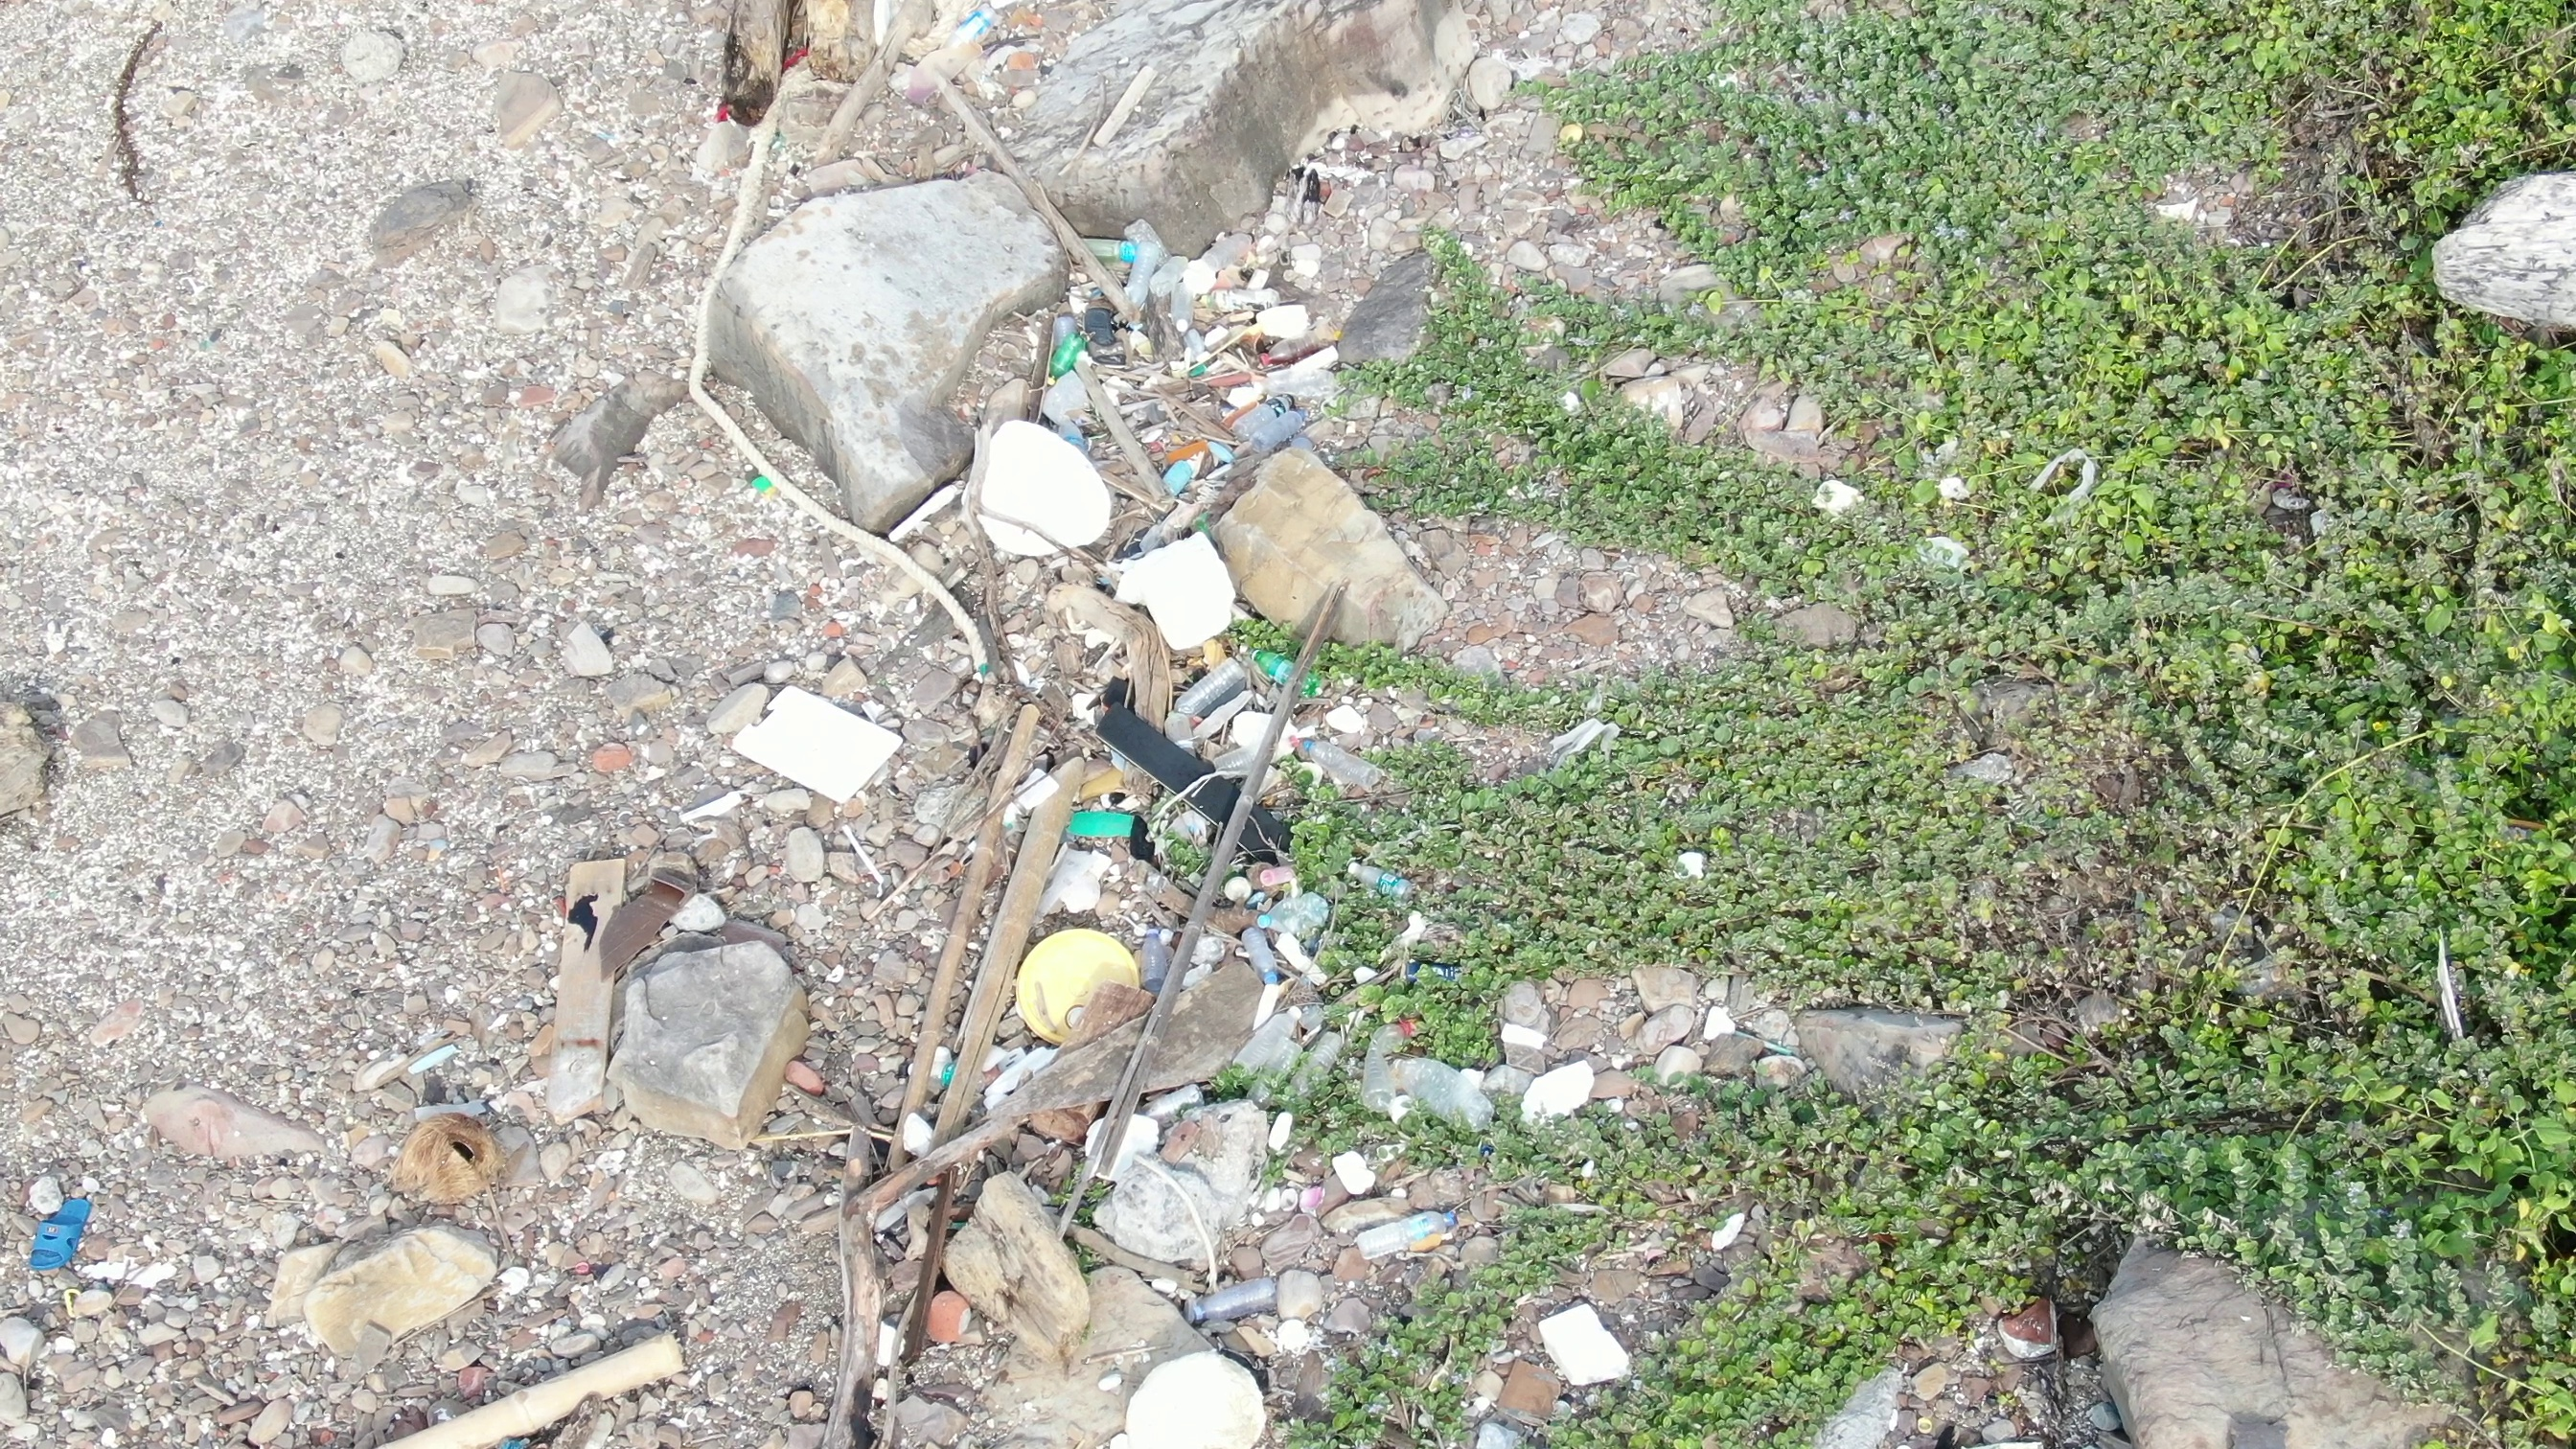bottle: (1350, 1203, 1468, 1267), (1249, 639, 1338, 697), (1122, 195, 1180, 281), (1249, 885, 1332, 941), (1339, 860, 1433, 906), (1063, 221, 1132, 271), (948, 2, 1005, 55), (1044, 327, 1085, 387)
garbage: (906, 642, 1474, 1449), (1024, 143, 1343, 653), (715, 2, 1024, 175), (27, 1182, 115, 1281)
